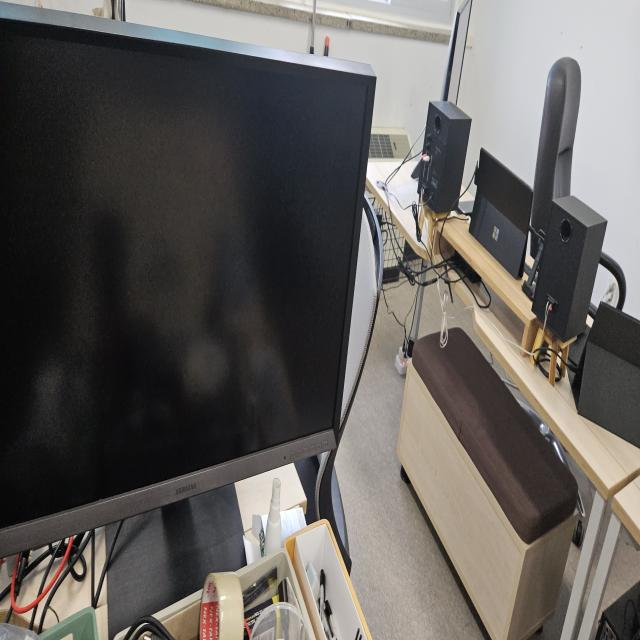Monitor: (1, 5, 379, 559)
